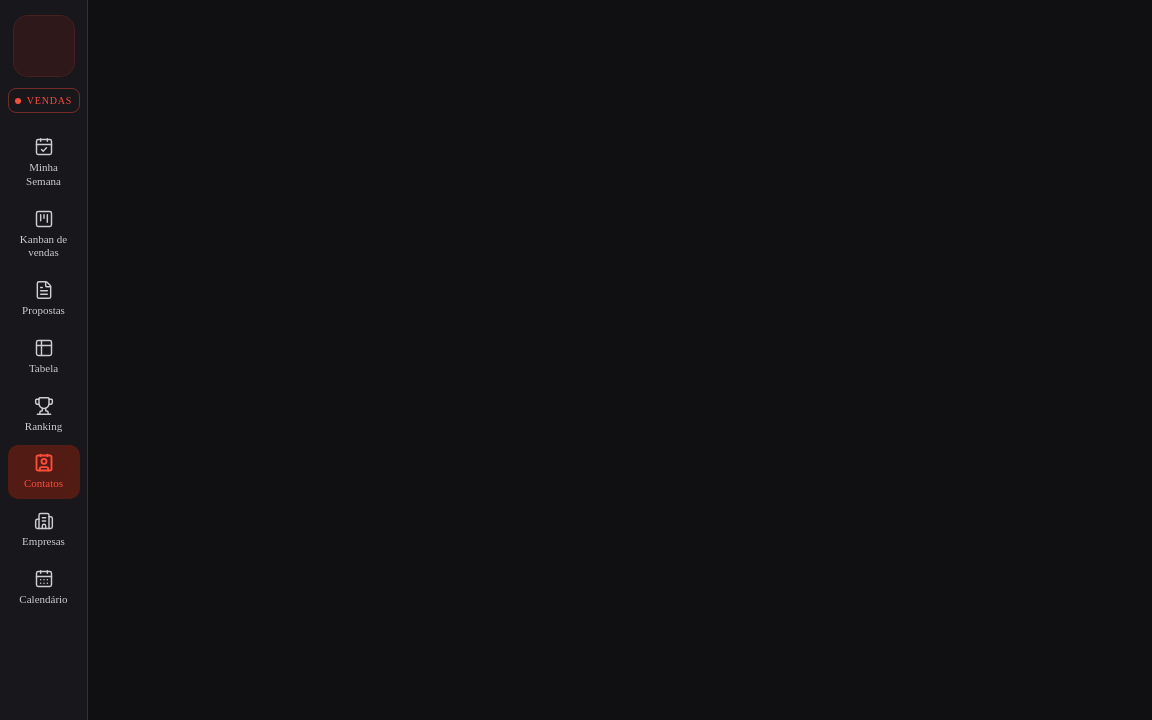
Gaveta › escolher área fecha e já troca o menu, mesmo que o destino seja rota sem área
Click the button named "Abrir menu de áreas".
click(44, 46)  # box [14,16,74,76]
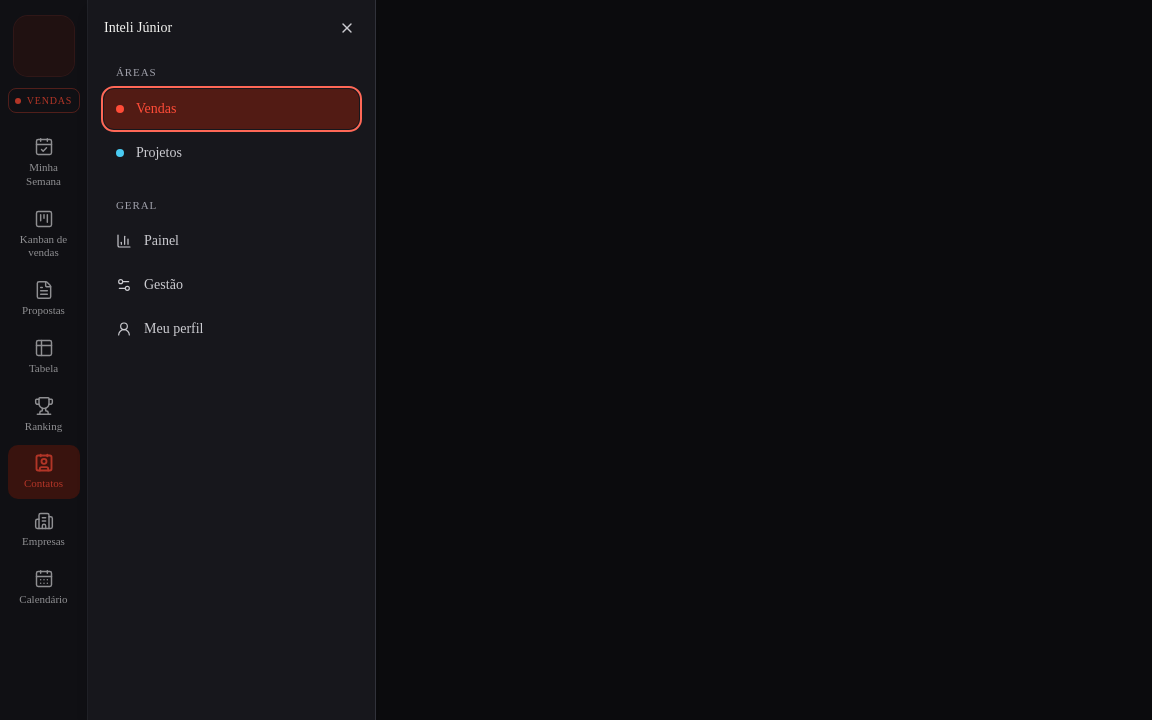
Click the link "Projetos".
click(149, 152)  # box [116,144,182,160]
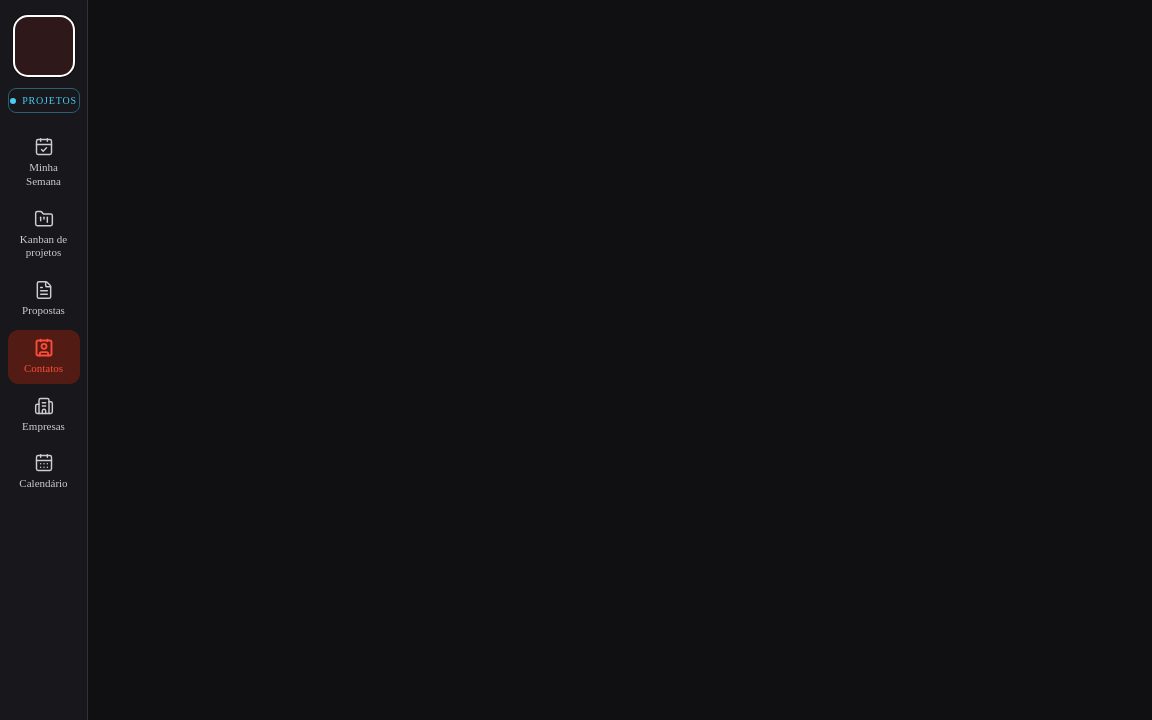
Expected: the text "Projetos" is shown, [8,88,80,113]
Expected: the dialog is gone
Expected: the link "Tabela" is gone
